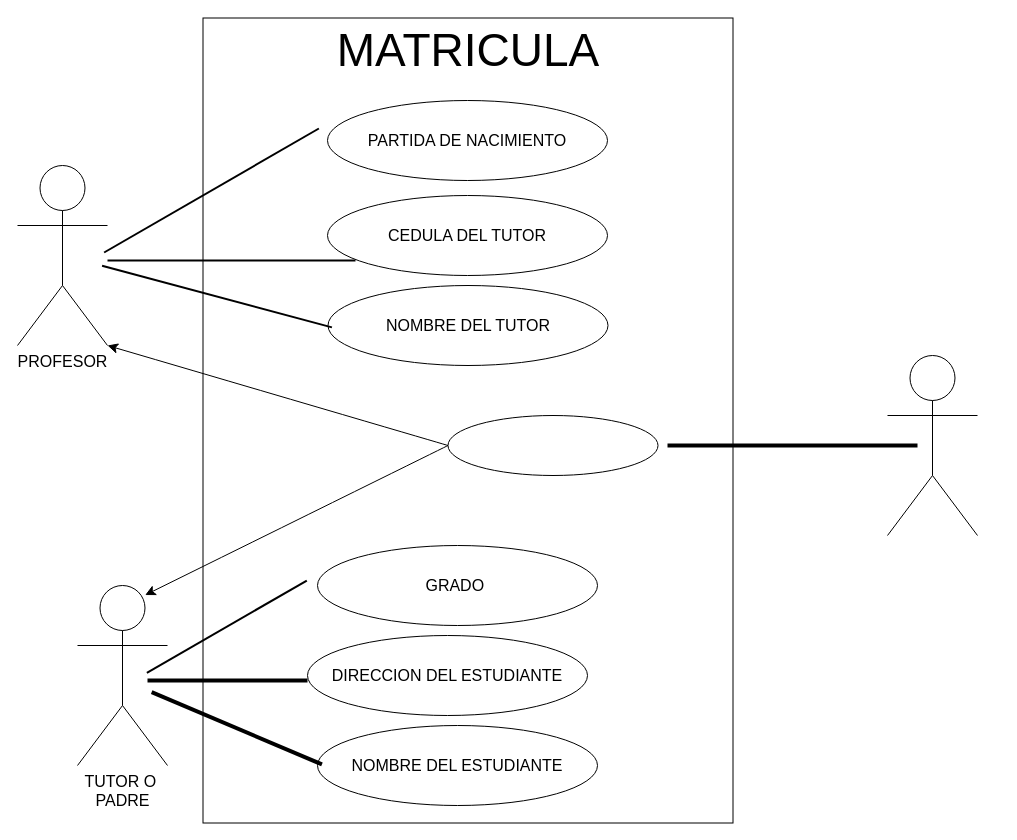
Some shapes in this 1017 by 840 pixel diagram are drawn without their labels. Each missing label, with the centre of its shape:
"CODIGO DE ESTUDIANTE" goes at pixel 552 445.
"GESTOR ADMINISTRATIVO" goes at pixel 932 445.
